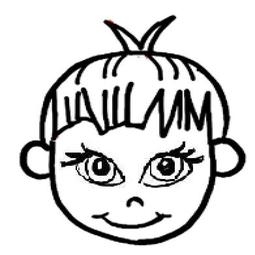ear: (6, 140, 61, 182), (210, 137, 249, 182)
eye: (134, 141, 204, 190), (60, 140, 127, 189)
mouth: (85, 210, 176, 231)
nose: (121, 196, 152, 211)
